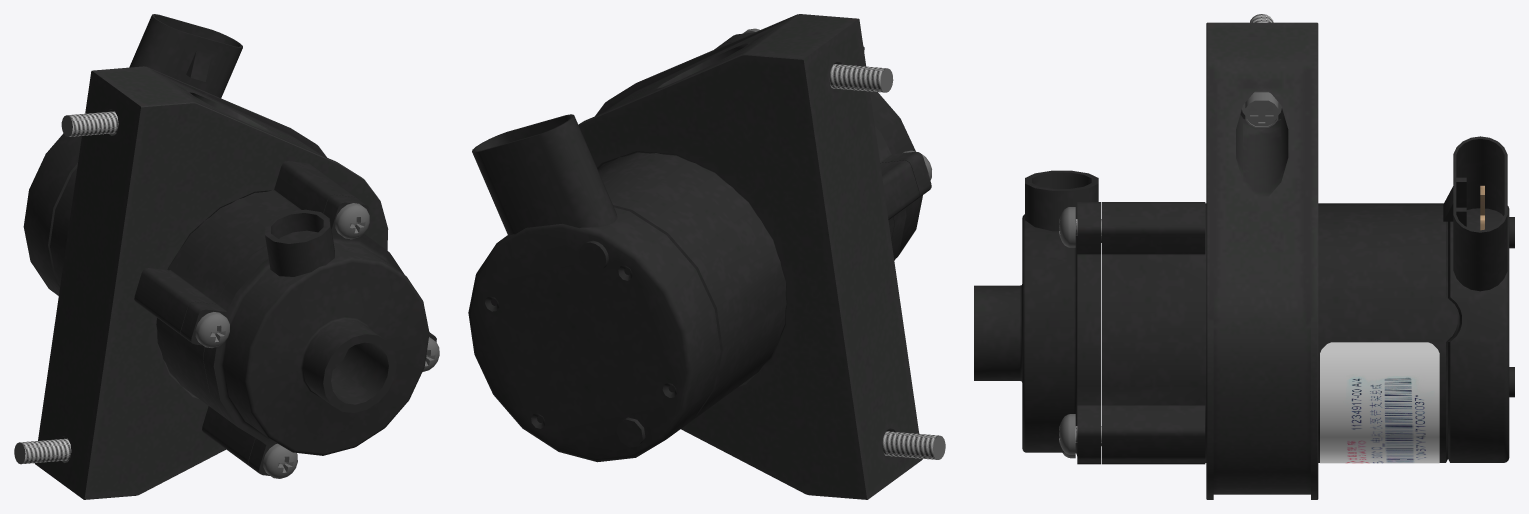
The model's file is E5_19_电机电控冷却水泵.FBX.
3 views of the same model, side by side, from view 1: azimuth 30°, elevation 25°; view 2: azimuth 150°, elevation 25°; view 3: azimuth 270°, elevation 25° (orthographic). The views are drawn at different scales.
Visible parts, largest first — view 1: DJ_DK_LQSB_KT, DJ_DK_LQSB_KT_XJQ, DJ_DK_LQSB_GD_LS, SB1_LS01, SB1_LS03, SB1_LS02; view 2: DJ_DK_LQSB_KT, DJ_DK_LQSB_KT_XJQ, DJ_DK_LQSB_GD_LS; view 3: DJ_DK_LQSB_KT, DJ_DK_LQSB_KT_XJQ, DJ_DK_LQSB_KT_TT, DJ_DK_LQSB_GD_LS, SB1_LS01, SB1_LS 1.
Boxes of the visible parts, box(x1,y1,x2,y2) form: DJ_DK_LQSB_KT: box(23, 14, 436, 475); DJ_DK_LQSB_KT_XJQ: box(34, 66, 388, 499); DJ_DK_LQSB_GD_LS: box(14, 111, 118, 464); SB1_LS01: box(335, 203, 369, 239); SB1_LS03: box(195, 312, 229, 347); SB1_LS02: box(263, 443, 297, 478); DJ_DK_LQSB_KT: box(468, 32, 931, 462); DJ_DK_LQSB_KT_XJQ: box(578, 14, 922, 499); DJ_DK_LQSB_GD_LS: box(829, 64, 945, 459); DJ_DK_LQSB_KT: box(974, 136, 1514, 464); DJ_DK_LQSB_KT_XJQ: box(1206, 22, 1318, 499); DJ_DK_LQSB_KT_TT: box(1320, 342, 1439, 463); DJ_DK_LQSB_GD_LS: box(1242, 14, 1281, 127); SB1_LS01: box(1059, 207, 1101, 247); SB1_LS 1: box(1059, 414, 1101, 454).
Size of the model in its own units: 9.54 by 10.26 by 11.51.
